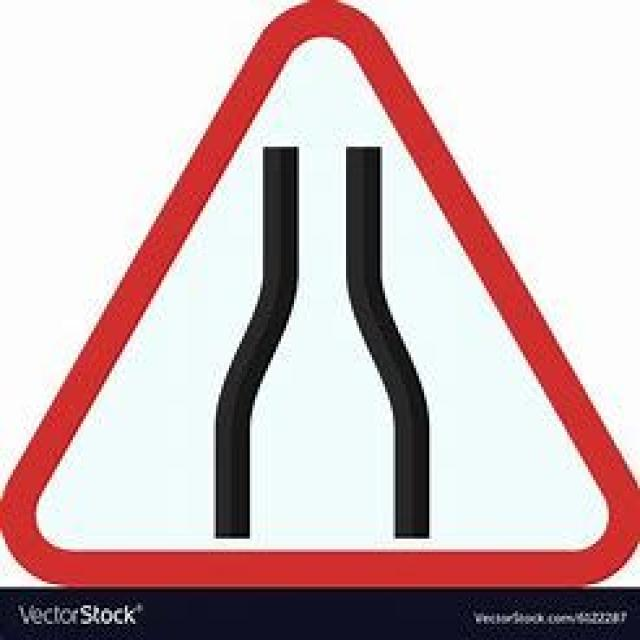narrow_road: (0, 0, 637, 584)
